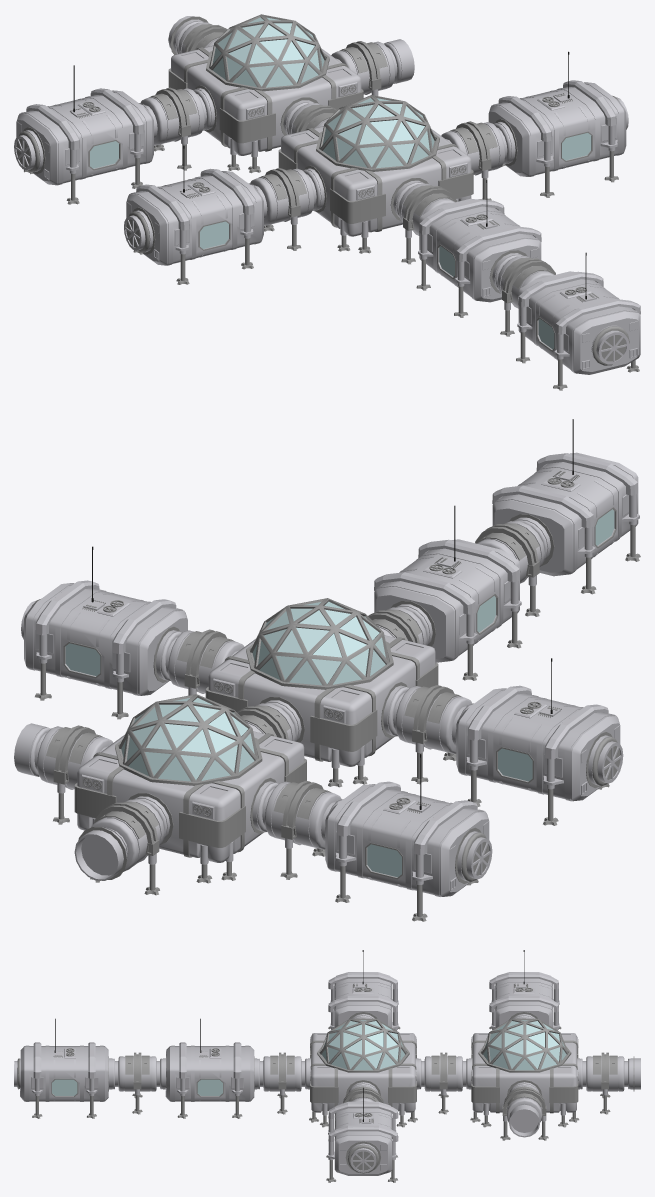
The model's file is colony.gltf.
3 renders of one model, top to bottom at view 1: azimuth 30°, elevation 25°; view 2: azimuth 150°, elevation 25°; view 3: azimuth 270°, elevation 25°, orthographic. The views are drawn at different scales.
Visible parts, largest first — view 1: Icosphere.002_55, Icosphere_3, Cube.001_2, Cube.022_54, Cube_0, Cube.030_87, Cube.045_114, Cube.076_173, Cube.060_141, Cube.017_36, Cylinder.034_73, Cylinder.028_66 (+23 smaller); view 2: Icosphere_3, Icosphere.002_55, Cube.022_54, Cube.001_2, Cube_0, Cube.045_114, Cube.030_87, Cube.076_173, Cube.060_141, Cylinder.040_80, Cube.023_57, Cylinder.028_66 (+26 smaller); view 3: Icosphere_3, Icosphere.002_55, Cube.022_54, Cube.001_2, Cube.060_141, Cube.076_173, Cube_0, Cube.030_87, Cube.045_114, Cylinder.040_80, Cylinder.058_166, Cylinder.017_47 (+16 smaller).
Boxes of the visible parts, x1,y1,x2,y2 form: Icosphere.002_55: (209, 14, 326, 87); Icosphere_3: (319, 95, 436, 168); Cube.001_2: (281, 126, 471, 253); Cube.022_54: (171, 45, 361, 173); Cube_0: (488, 82, 626, 176); Cube.030_87: (126, 171, 263, 265); Cube.045_114: (16, 90, 153, 185); Cube.076_173: (518, 271, 640, 374); Cube.060_141: (419, 198, 541, 302); Cube.017_36: (278, 149, 473, 223); Cylinder.034_73: (139, 88, 215, 145); Cylinder.028_66: (249, 168, 324, 225); Icosphere_3: (250, 598, 389, 685); Icosphere.002_55: (119, 694, 258, 781); Cube.022_54: (77, 731, 304, 883); Cube.001_2: (208, 635, 435, 787); Cube_0: (24, 583, 187, 695); Cube.045_114: (325, 784, 489, 896); Cube.030_87: (456, 688, 620, 801); Cube.076_173: (492, 452, 638, 576); Cube.060_141: (374, 539, 519, 662); Cylinder.040_80: (74, 796, 170, 880); Cube.023_57: (74, 758, 306, 847); Cylinder.028_66: (383, 685, 473, 753); Icosphere_3: (320, 1018, 406, 1070); Icosphere.002_55: (481, 1018, 568, 1070); Cube.022_54: (470, 1033, 579, 1127); Cube.001_2: (309, 1033, 417, 1127); Cube.060_141: (166, 1046, 254, 1101); Cube.076_173: (20, 1046, 108, 1101); Cube_0: (335, 1101, 391, 1175); Cube.030_87: (334, 972, 391, 1027); Cube.045_114: (495, 972, 552, 1027); Cylinder.040_80: (577, 1056, 640, 1091); Cylinder.058_166: (109, 1056, 165, 1091); Cylinder.017_47: (254, 1056, 310, 1091).
Size of the model in its own units: 23.36 by 5.33 by 35.5.
